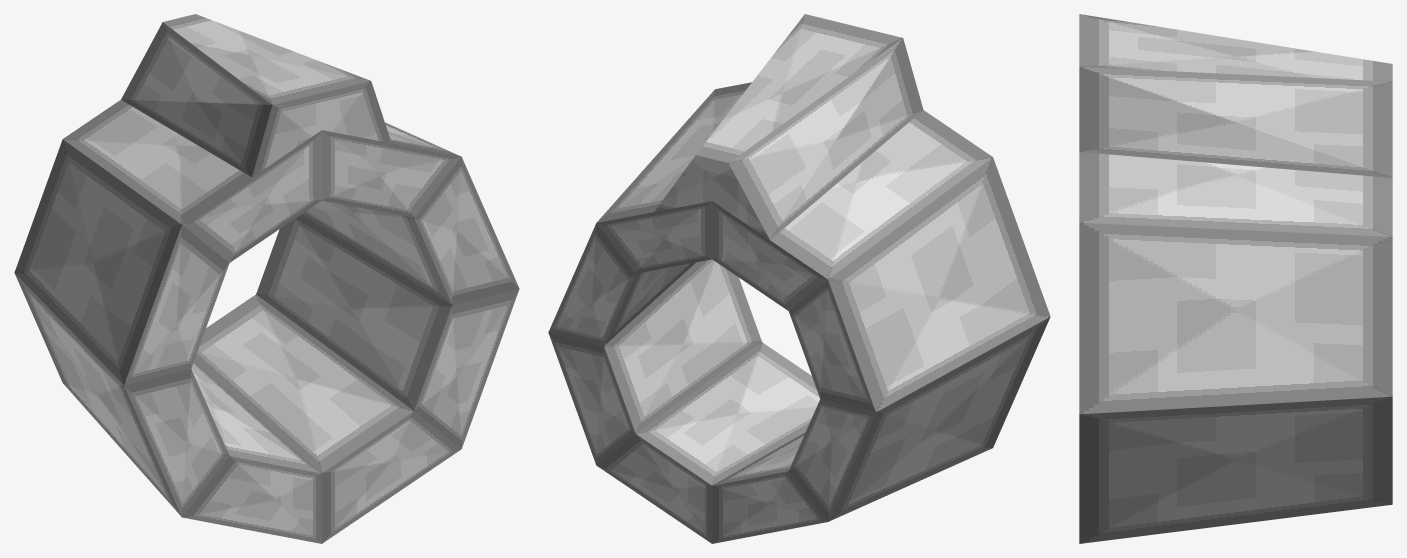
File: shuttle.obj
3 views of the same model, side by side, from view 1: azimuth 30°, elevation 25°; view 2: azimuth 150°, elevation 25°; view 3: azimuth 270°, elevation 25° (orthographic). The views are drawn at different scales.
Visible parts, largest first — view 1: Shuttle_Cylinder; view 2: Shuttle_Cylinder; view 3: Shuttle_Cylinder.
Boxes of the visible parts, x1,y1,x2,y2 form: Shuttle_Cylinder: (14,14,519,543); Shuttle_Cylinder: (548,14,1050,543); Shuttle_Cylinder: (1079,14,1392,543).
Bounding box in the file's own units: 3 × 3.27 × 1.88.
1 material, 1 textured.
